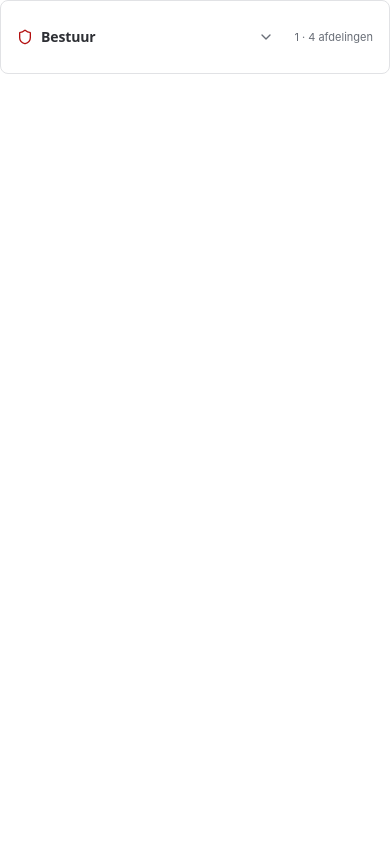
department read integration › keeps all four departments in the mobile expansion
Click the button named "Bestuur en lokale woordvoerders" at [266, 37], box [246,17,286,57]
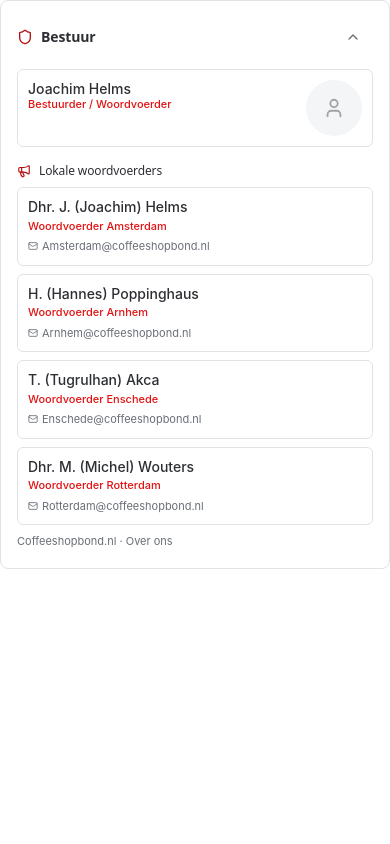
Result: the text "Dhr. J. (Joachim) Helms" is shown at [28,198,188,215]
Result: the text "H. (Hannes) Poppinghaus" is shown at [28,284,199,302]
Result: the text "T. (Tugrulhan) Akca" is shown at [28,371,160,388]
